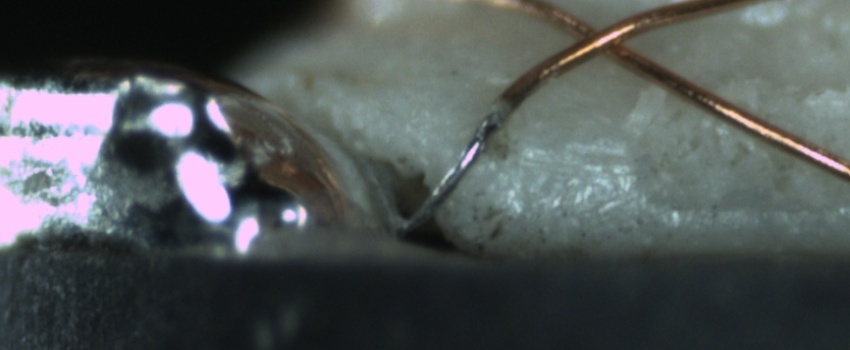CL: (558, 8, 648, 67)
DL: (478, 129, 639, 190)
TS: (404, 101, 507, 232)
TTCW: (396, 92, 510, 228)
